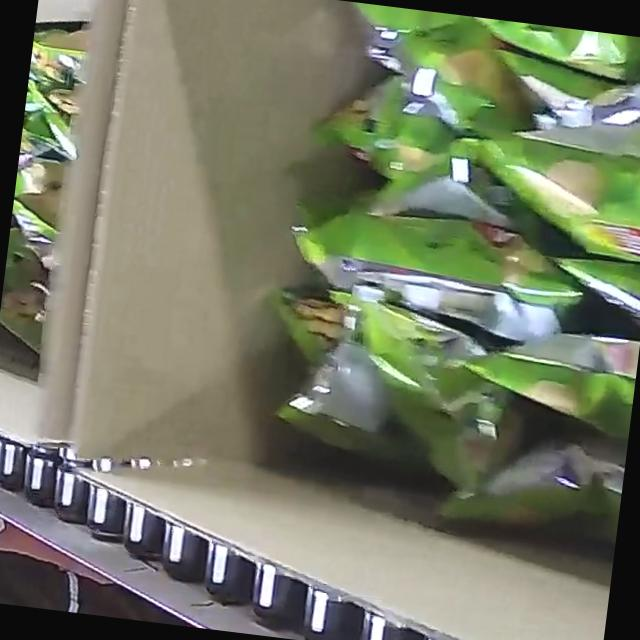yogurt: (246, 0, 640, 530), (0, 0, 111, 387)
